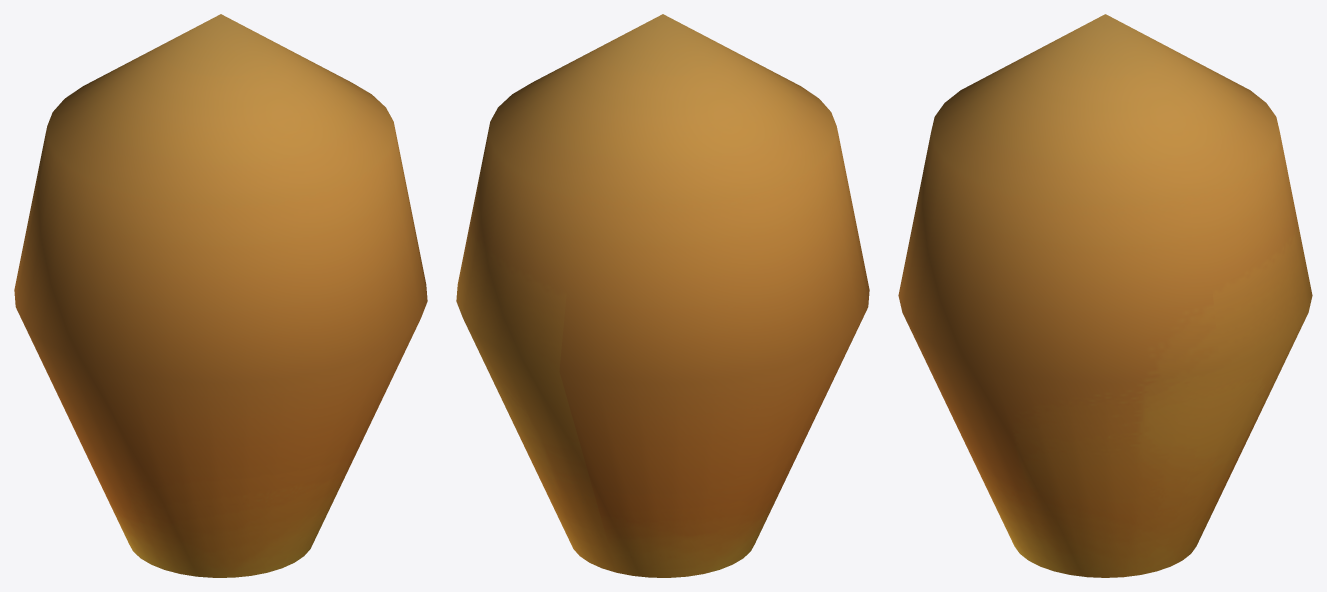
Rendered from guang.FBX.
The picture shows the model from 3 angles, left to right: view 1: azimuth 30°, elevation 25°; view 2: azimuth 150°, elevation 25°; view 3: azimuth 270°, elevation 25°; orthographic projection.
Visible parts, largest first — view 1: Sphere001; view 2: Sphere001; view 3: Sphere001.
Part boxes in pixels (x1=…): Sphere001: x1=14, y1=14, x2=427, y2=577; Sphere001: x1=456, y1=14, x2=869, y2=577; Sphere001: x1=898, y1=14, x2=1312, y2=577.
Bounding box in the file's own units: 398 × 556 × 398.
